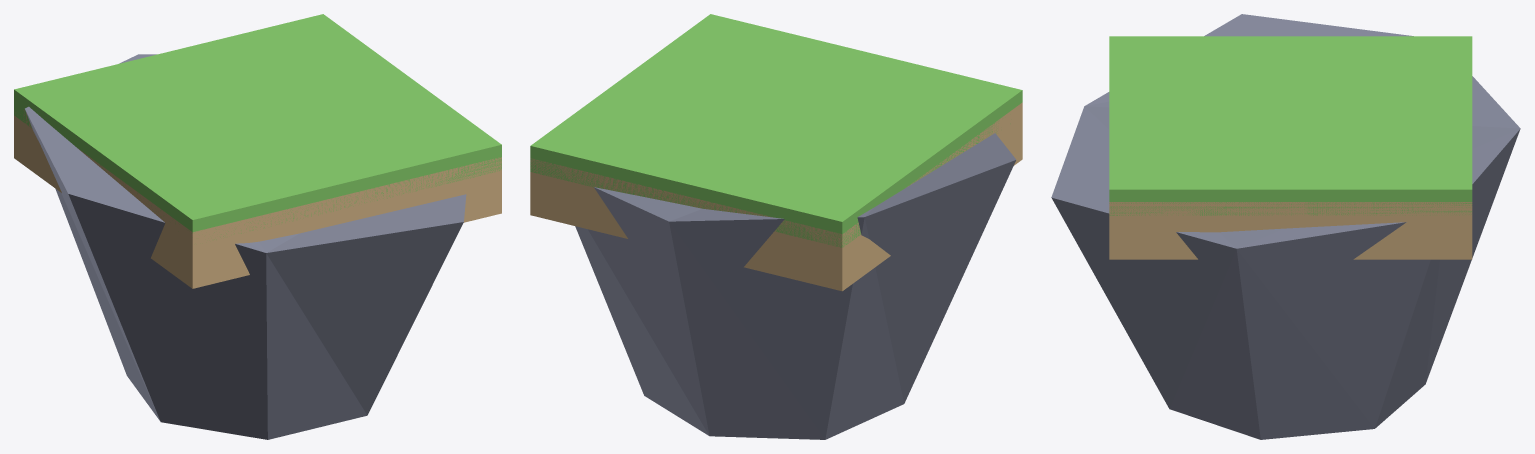
File: SM_Tile_IslandEdge.fbx
The picture shows the model from 3 angles, left to right: view 1: azimuth 30°, elevation 25°; view 2: azimuth 150°, elevation 25°; view 3: azimuth 270°, elevation 25°; orthographic projection.
Visible parts, largest first — view 1: SM_Tile_IslandEdge; view 2: SM_Tile_IslandEdge; view 3: SM_Tile_IslandEdge.
Boxes of the visible parts, x1,y1,x2,y2 form: SM_Tile_IslandEdge: (14,14,501,439); SM_Tile_IslandEdge: (530,14,1022,439); SM_Tile_IslandEdge: (1051,14,1520,439).
Bounding box in the file's own units: 2.59 × 1.65 × 2.59.
